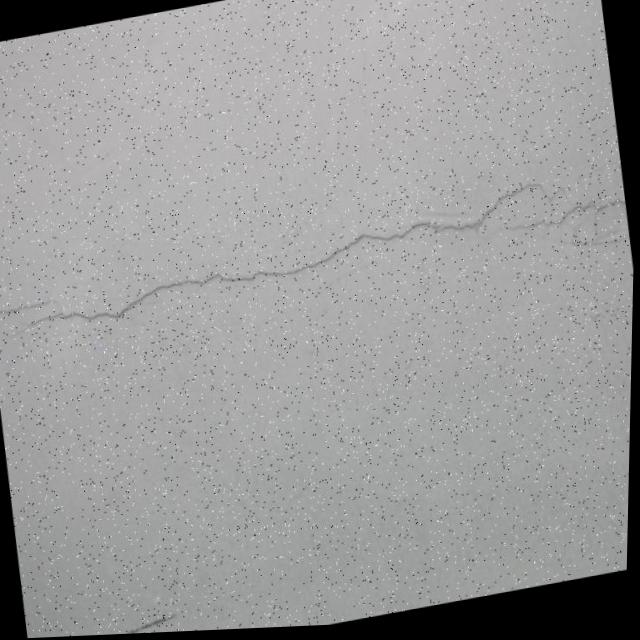Crack: (0, 161, 626, 380)
